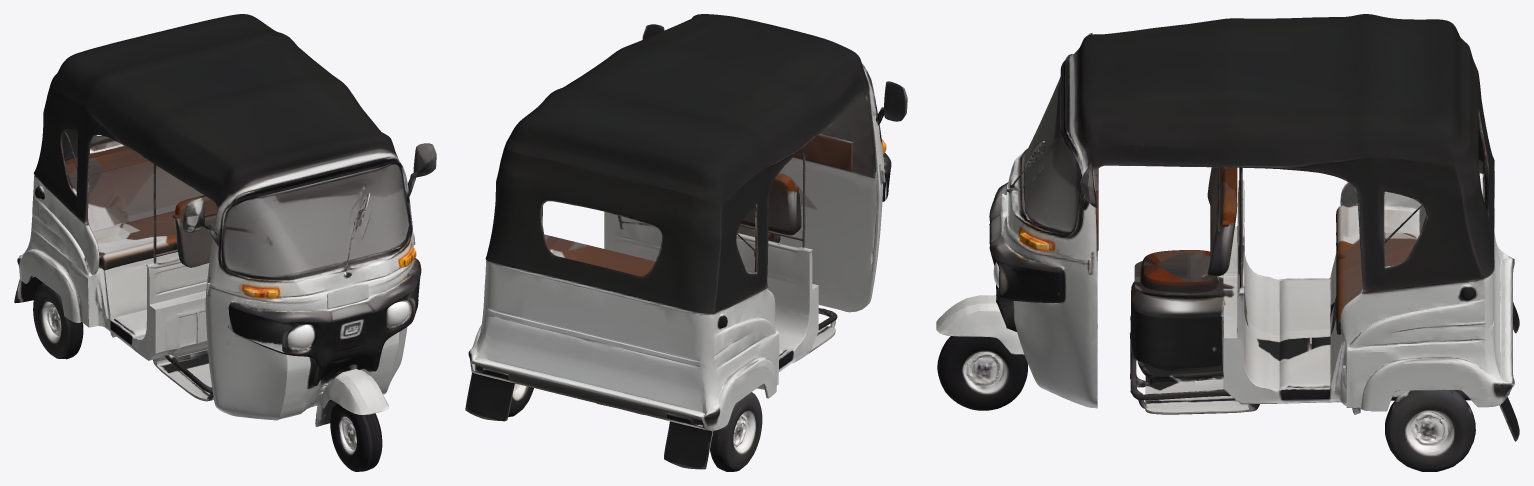
The model's file is base_basic_pbr.glb.
3 renders of one model, left to right at view 1: azimuth 30°, elevation 25°; view 2: azimuth 150°, elevation 25°; view 3: azimuth 270°, elevation 25°, orthographic. The views are drawn at different scales.
Visible parts, largest first — view 1: model; view 2: model; view 3: model.
Boxes of the visible parts, x1,y1,x2,y2 form: model: [14, 14, 436, 471]; model: [465, 14, 907, 471]; model: [936, 14, 1519, 471].
Size of the model in its own units: 1.11 by 1.26 by 1.91.
1 material, 1 textured.
